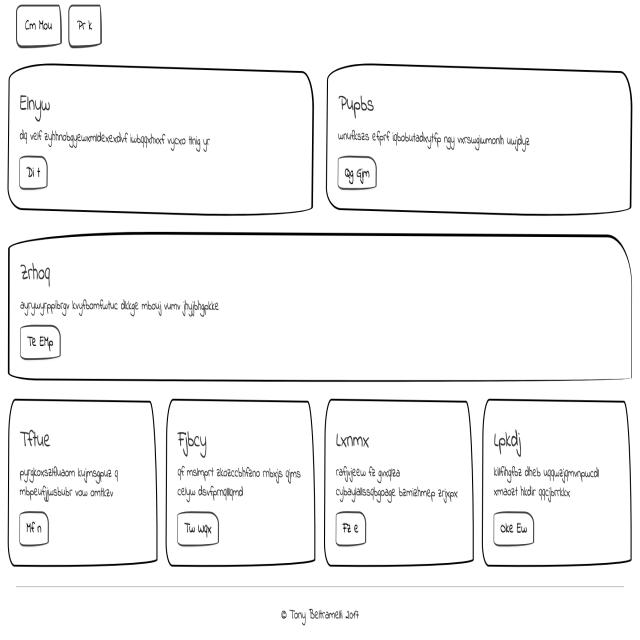Button: (18, 324, 63, 362), (176, 509, 220, 544), (338, 155, 376, 192), (494, 510, 534, 542), (334, 511, 366, 547), (18, 513, 49, 545), (20, 155, 49, 189)
Card: (6, 230, 634, 383), (9, 61, 313, 216), (327, 64, 633, 215), (325, 394, 475, 568), (8, 394, 158, 566), (165, 395, 316, 564), (482, 398, 632, 564)
Footer: (0, 586, 640, 640)
Heading 6: (336, 90, 376, 120), (16, 89, 51, 122), (332, 428, 374, 453), (176, 430, 210, 459), (491, 429, 524, 458), (18, 423, 54, 449), (20, 260, 52, 286)
Navigation Bar: (14, 5, 102, 46)
Paragraph: (175, 465, 308, 505), (335, 464, 459, 503), (19, 128, 212, 153), (491, 464, 605, 502), (20, 298, 222, 318), (335, 131, 529, 151), (18, 465, 128, 499)
